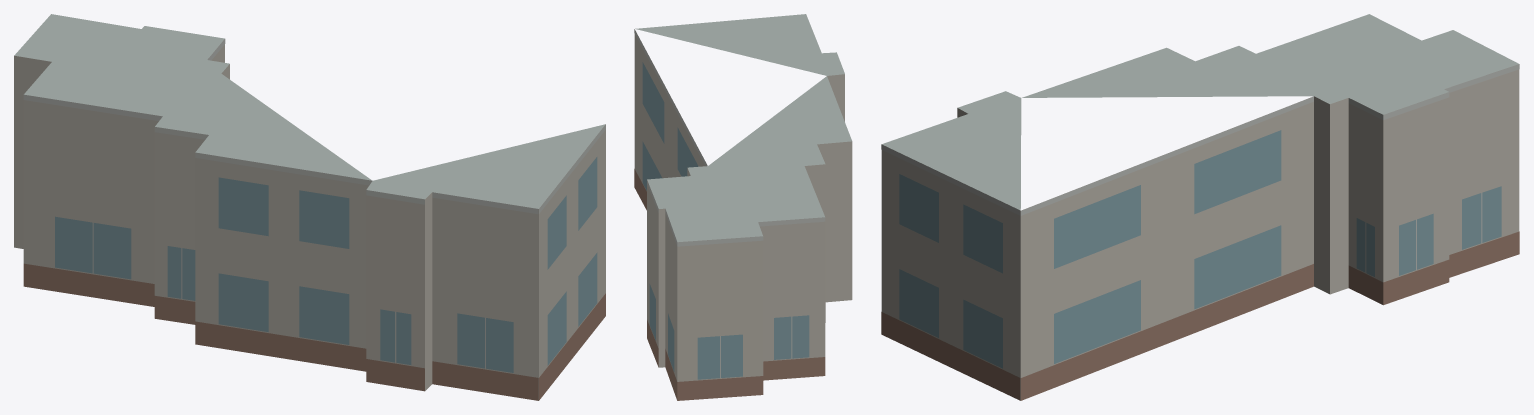
The model's file is survey-upis-32754314.glb.
The picture shows the model from 3 angles, left to right: view 1: azimuth 30°, elevation 25°; view 2: azimuth 150°, elevation 25°; view 3: azimuth 270°, elevation 25°; orthographic projection. The views are drawn at different scales.
Parts seen in each view (by area): view 1: survey-upis-32754314.tmp; view 2: survey-upis-32754314.tmp; view 3: survey-upis-32754314.tmp.
Part boxes in pixels (box(x1,y1,x2,y2)): survey-upis-32754314.tmp: box(14, 14, 605, 400); survey-upis-32754314.tmp: box(634, 14, 852, 400); survey-upis-32754314.tmp: box(881, 14, 1519, 400).
Size of the model in its own units: 19.18 by 8.65 by 26.29.
